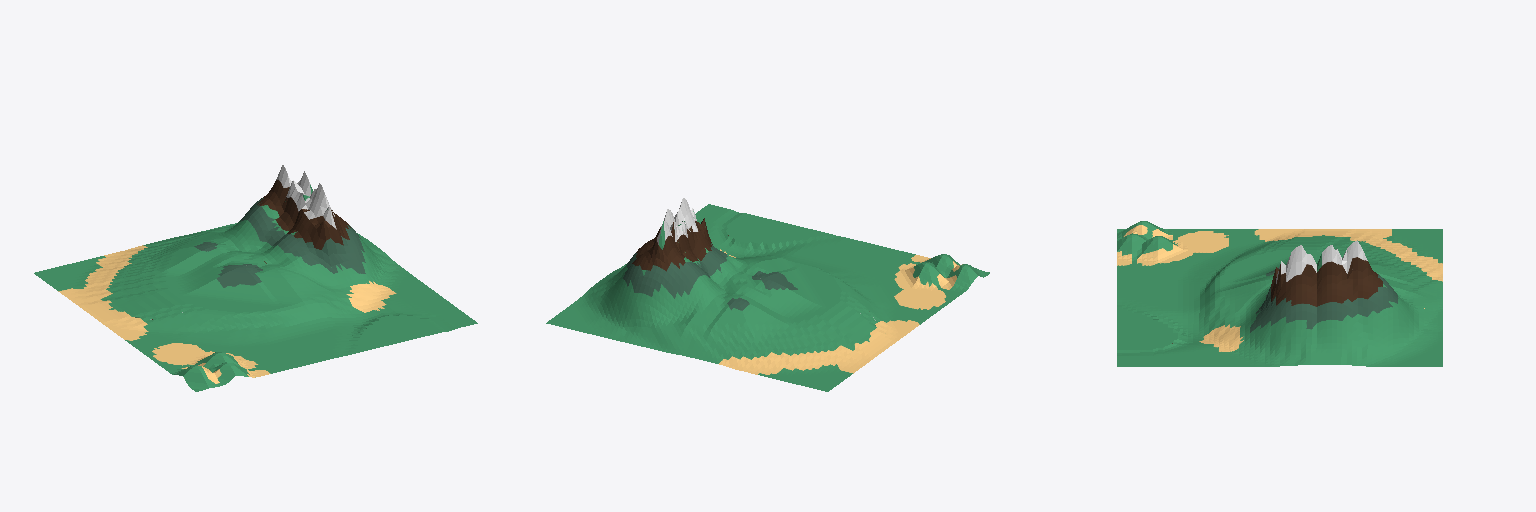
3 views of the same model, side by side, from view 1: azimuth 30°, elevation 25°; view 2: azimuth 150°, elevation 25°; view 3: azimuth 270°, elevation 25° (orthographic).
Parts seen in each view (by area): view 1: Plane; view 2: Plane; view 3: Plane.
Part boxes in pixels (x1,y1,x2,y2): Plane: (34,165,477,391); Plane: (546,198,989,391); Plane: (1117,221,1442,366).
Size of the model in its own units: 28.47 by 9.15 by 28.41.
5 materials, 1 textured.